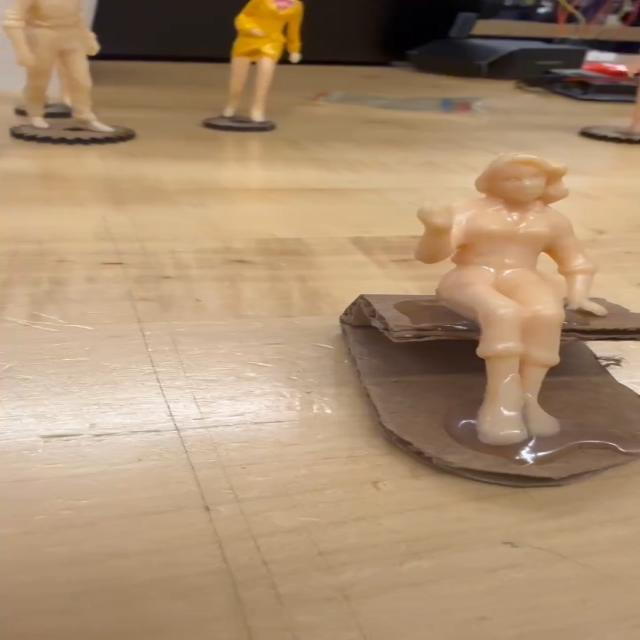Unauthorized: (391, 146, 599, 466)
